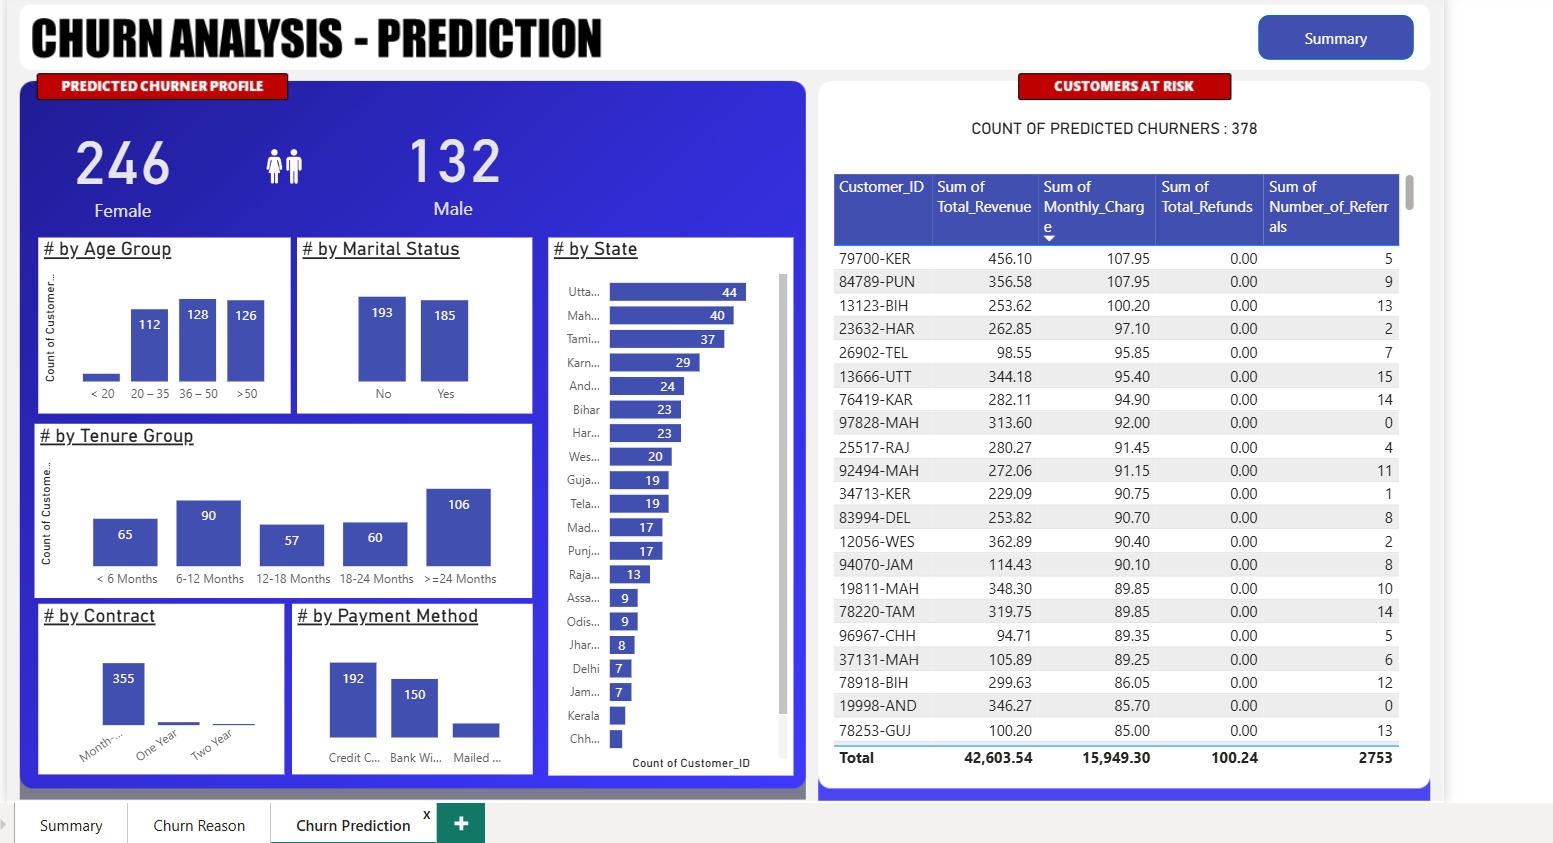

This screenshot's page, from the dashboard's own definition file:
{"tool":"powerbi","page":{"name":"Churn Prediction","canvas":[1280,720],"ordinal":2},"visuals":[{"type":"tableEx","fields":{"Values":["Predictions.Customer_ID","Sum(Predictions.Total_Revenue)","Sum(Predictions.Monthly_Charge)","Sum(Predictions.Total_Refunds)","Sum(Predictions.Number_of_Referrals)"]},"box":[730,155.1,528.3,539.3],"z":0},{"type":"card","fields":{"Values":["tbl_measures.Title Predicted Churners"]},"box":[787.7,104.3,396.6,31.6],"z":1000},{"type":"card","fields":{"Values":["tbl_measures.Count Predicted Churner"]},"box":[37,101.5,133.1,104.3],"z":2000},{"type":"card","fields":{"Values":["tbl_measures.Count Predicted Churner"]},"box":[338.9,101.5,118,100.2],"z":3000},{"type":"columnChart","title":"#  by Age Group","fields":{"Category":["mapping_AgeGrp.Age Group"],"Y":["CountNonNull(Predictions.Customer_ID)"]},"box":[27.4,215.4,225,156.4],"z":4000},{"type":"columnChart","title":"#  by Marital Status","fields":{"Category":["Predictions.Married"],"Y":["CountNonNull(Predictions.Customer_ID)"]},"box":[258,215.4,209.9,156.4],"z":5000},{"type":"columnChart","title":"#  by Tenure Group","fields":{"Y":["CountNonNull(Predictions.Customer_ID)"],"Category":["mapping_TenureGrp.Tenure Group"]},"box":[24.7,381.5,443.2,155.1],"z":6000},{"type":"columnChart","title":"#  by Payment Method","fields":{"Y":["CountNonNull(Predictions.Customer_ID)"],"Category":["Predictions.Payment_Method"]},"box":[253.9,542,214.1,152.3],"z":7000},{"type":"columnChart","title":"#  by Contract","fields":{"Y":["CountNonNull(Predictions.Customer_ID)"],"Category":["Predictions.Contract"]},"box":[27.4,542,219.6,152.3],"z":8000},{"type":"clusteredBarChart","title":"#  by State","fields":{"Category":["Predictions.State"],"Y":["CountNonNull(Predictions.Customer_ID)"]},"box":[481.6,215.4,218.2,478.9],"z":9000},{"type":"image","box":[207.2,127.6,79.6,49.4],"z":10000},{"type":"shape","box":[1114.2,17.8,138.6,39.8],"z":11000}]}

Visuals, with their boxes on the page's 1280x720 design canvas (x1, y1, x2, y2). These are canvas units, not pixel positions in the 1553x843 screenshot, which may show the page scaled, cropped or inside an application window:
tableEx - Predictions.Customer_ID x Sum(Predictions.Total_Revenue): x1=730 y1=155 x2=1258 y2=694
card - tbl_measures.Title Predicted Churners: x1=788 y1=104 x2=1184 y2=136
card - tbl_measures.Count Predicted Churner: x1=37 y1=102 x2=170 y2=206
card - tbl_measures.Count Predicted Churner: x1=339 y1=102 x2=457 y2=202
"#  by Age Group" columnChart: x1=27 y1=215 x2=252 y2=372
"#  by Marital Status" columnChart: x1=258 y1=215 x2=468 y2=372
"#  by Tenure Group" columnChart: x1=25 y1=382 x2=468 y2=537
"#  by Payment Method" columnChart: x1=254 y1=542 x2=468 y2=694
"#  by Contract" columnChart: x1=27 y1=542 x2=247 y2=694
"#  by State" clusteredBarChart: x1=482 y1=215 x2=700 y2=694
image: x1=207 y1=128 x2=287 y2=177
shape: x1=1114 y1=18 x2=1253 y2=58
